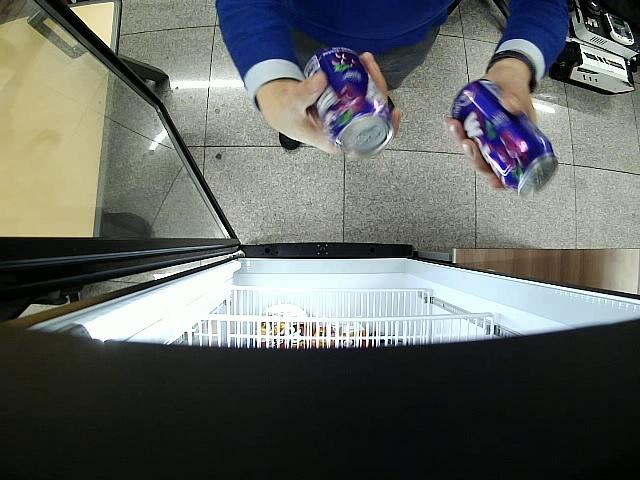00_hand: (294, 54, 401, 159), (444, 72, 535, 187)
14_welchsGrape: (450, 80, 559, 197), (304, 48, 394, 158)
